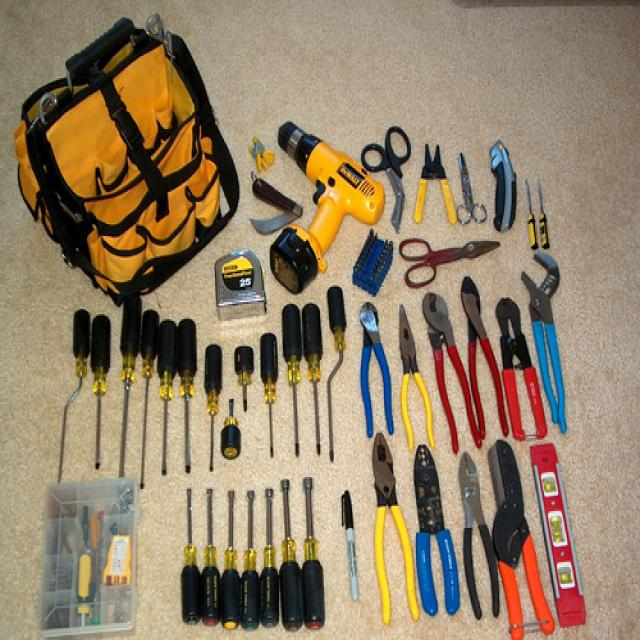Drill: (264, 112, 391, 297)
Pliers: (520, 252, 584, 434), (363, 427, 416, 640), (420, 289, 479, 452), (410, 442, 459, 624), (459, 272, 505, 460), (455, 454, 500, 626), (392, 297, 440, 455), (497, 286, 543, 449), (357, 296, 395, 433), (416, 130, 454, 240)
Screwdriver: (46, 306, 92, 484), (105, 291, 146, 480), (296, 470, 330, 638), (82, 312, 114, 476), (131, 308, 159, 492), (172, 315, 202, 483), (153, 315, 182, 484), (274, 470, 303, 636), (324, 282, 348, 476), (280, 300, 308, 464), (176, 486, 203, 632), (257, 484, 282, 634), (199, 336, 225, 480), (257, 329, 284, 462), (217, 486, 241, 634), (306, 297, 327, 463), (240, 483, 262, 639), (198, 480, 220, 634), (218, 397, 247, 463), (231, 343, 257, 416), (533, 173, 555, 251), (520, 170, 538, 246)
